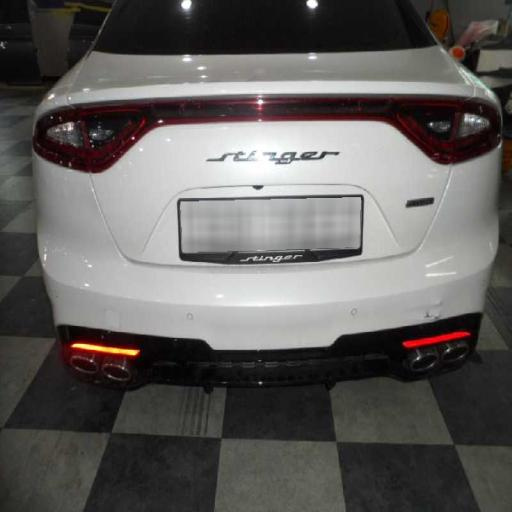scratch: (380, 194, 506, 320)
